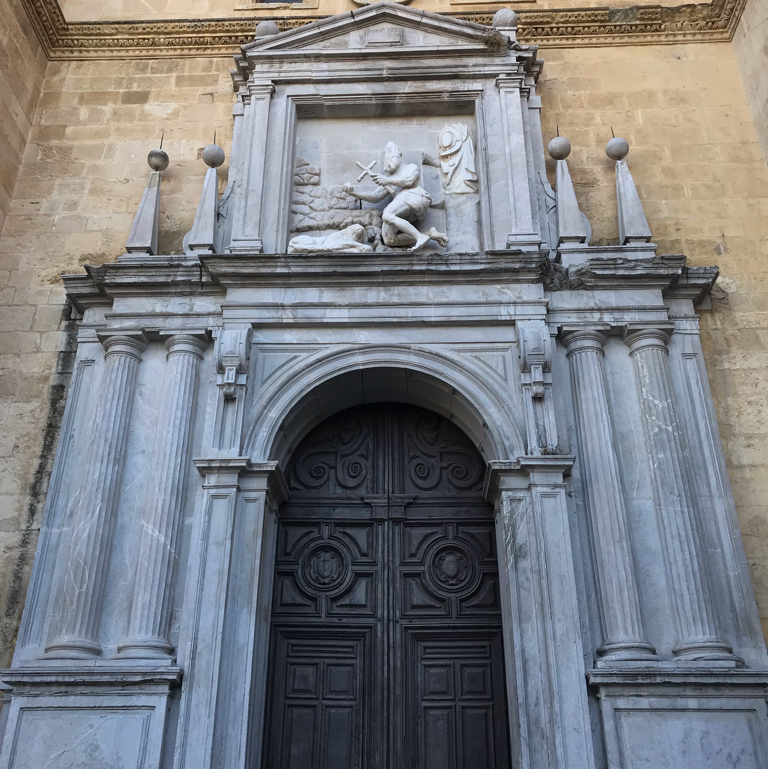arco-medio-punto: (248, 353, 512, 518)
fronton: (234, 1, 506, 58)
vano-adintelado: (259, 75, 497, 266)
